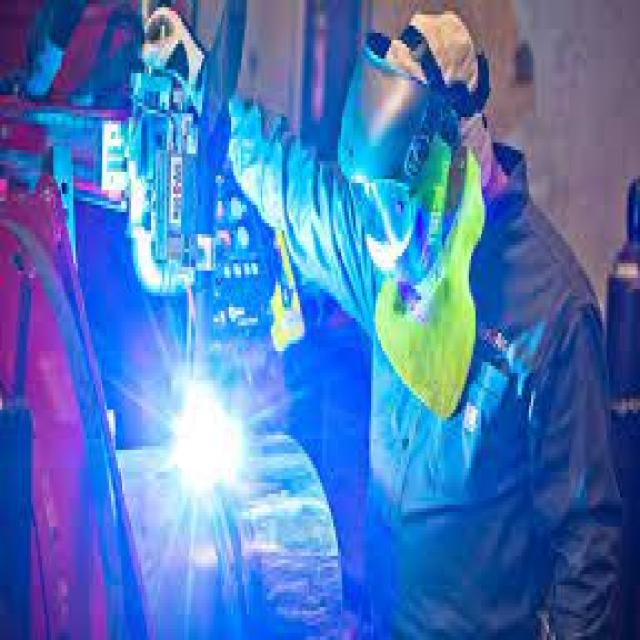welding: (178, 387, 239, 489)
